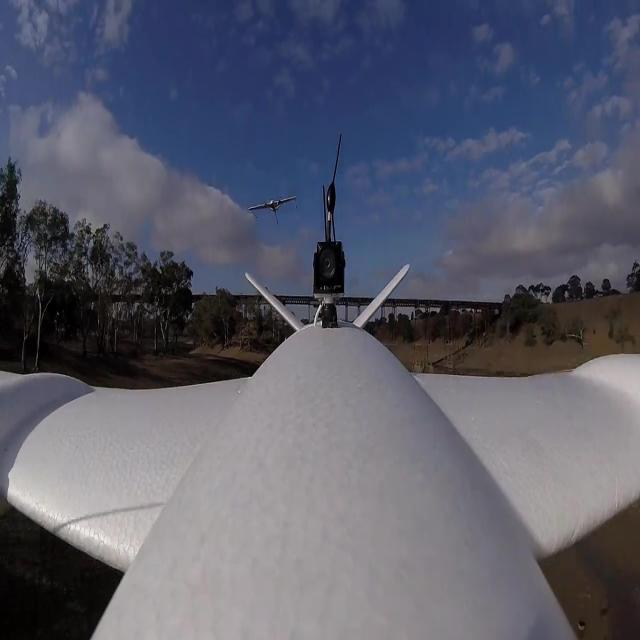iha: (247, 187, 298, 206)
